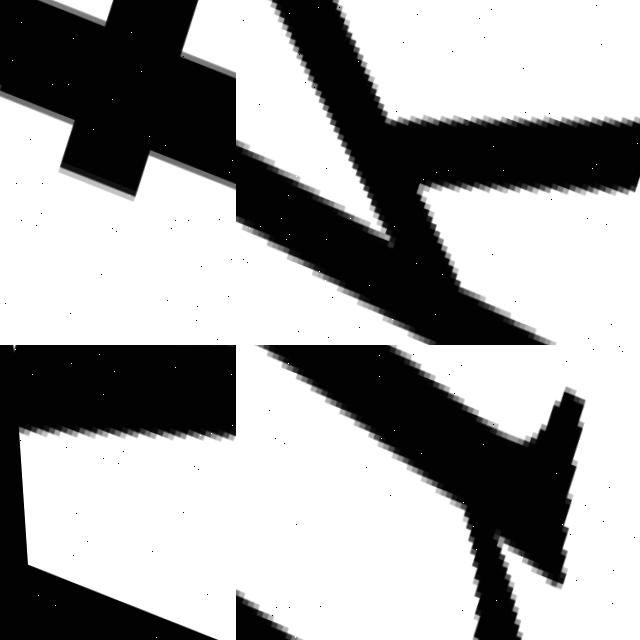K: (236, 0, 640, 345)
T: (0, 0, 236, 336)
U: (236, 345, 640, 640)
Y: (0, 345, 236, 640)
